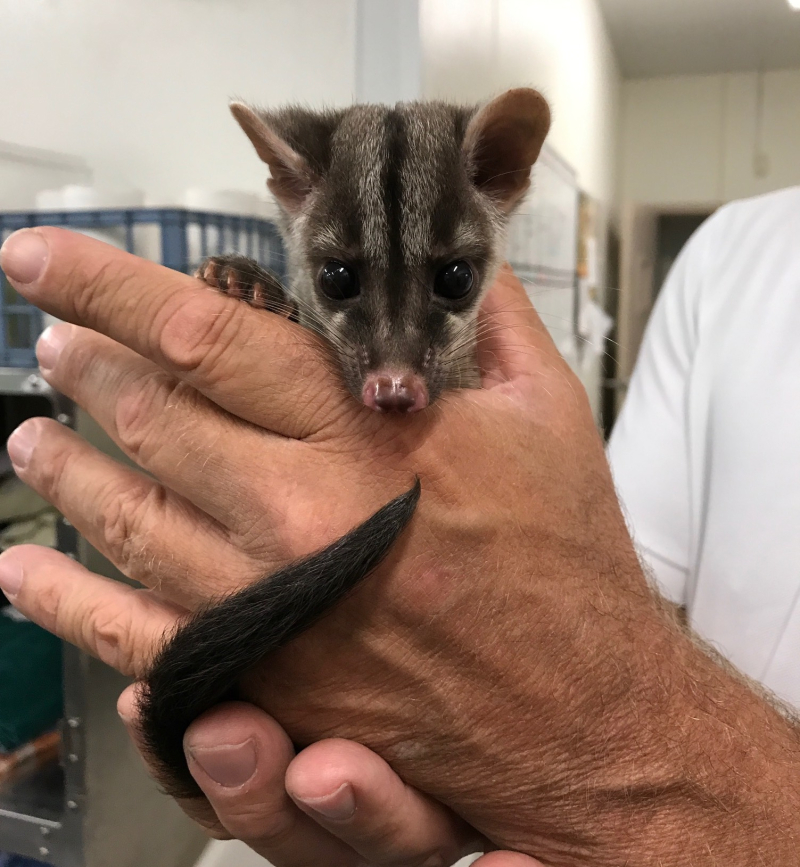Civet: (231, 54, 570, 419)
